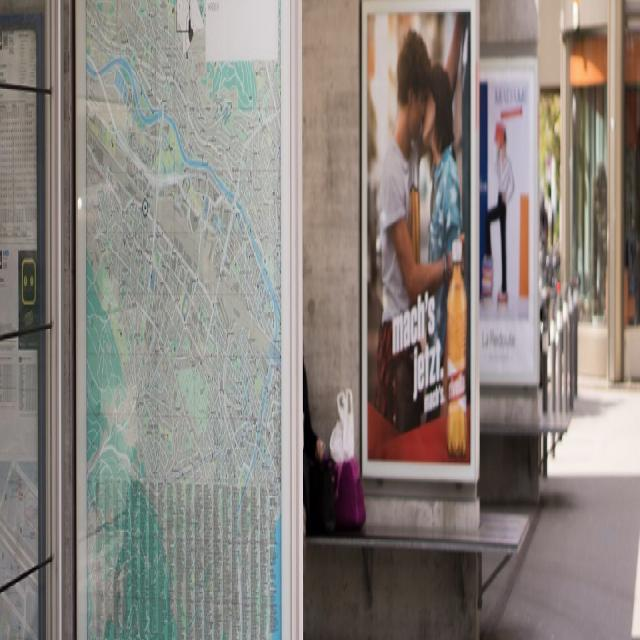Werbetafel frei: (363, 0, 472, 479), (478, 52, 540, 391)
